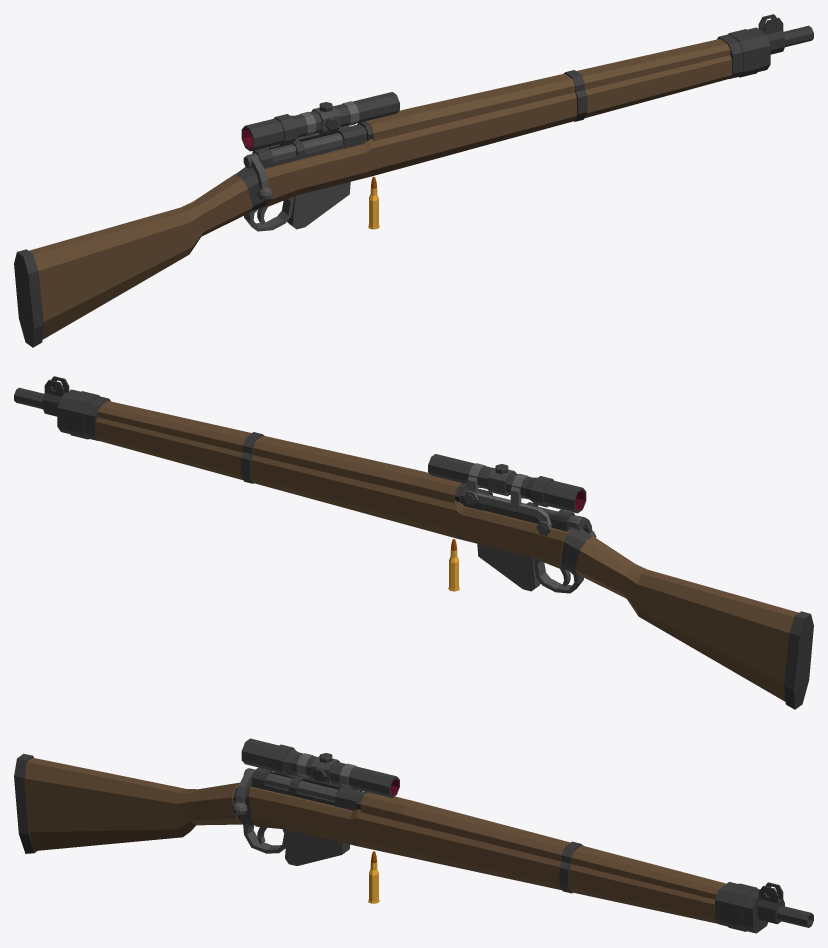
Rendered from Enfield.fbx.
The picture shows the model from 3 angles, top to bottom: view 1: azimuth 30°, elevation 25°; view 2: azimuth 150°, elevation 25°; view 3: azimuth 330°, elevation 25°; orthographic projection.
Visible parts, largest first — view 1: Enfield, Scope, Mag; view 2: Enfield, Scope, Mag; view 3: Enfield, Scope, Mag, Bullet.
Boxes of the visible parts, x1=… form: Enfield: x1=14, y1=14, x2=813, y2=347; Scope: x1=241, y1=92, x2=399, y2=151; Mag: x1=287, y1=182, x2=350, y2=229; Enfield: x1=14, y1=376, x2=813, y2=709; Scope: x1=428, y1=454, x2=586, y2=535; Mag: x1=477, y1=544, x2=540, y2=591; Enfield: x1=14, y1=753, x2=813, y2=933; Scope: x1=241, y1=738, x2=399, y2=797; Mag: x1=285, y1=830, x2=349, y2=865; Bullet: x1=368, y1=851, x2=379, y2=903.
Bounding box in the file's own units: 956 × 194 × 54.89.
1 material, 1 textured.
